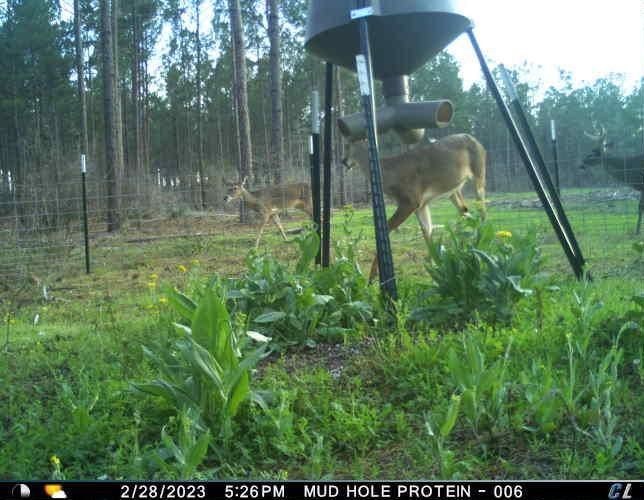Deer: (342, 131, 491, 284), (221, 175, 325, 252), (578, 121, 644, 237)
